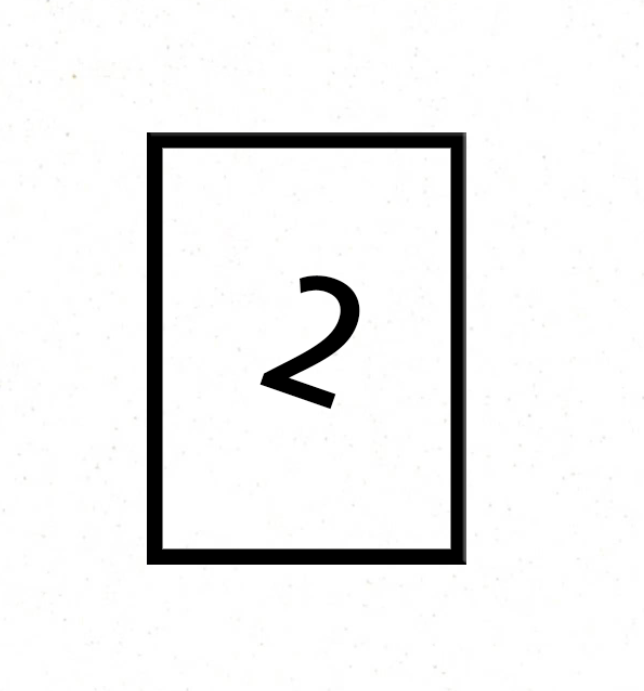two: (229, 228, 391, 452)
